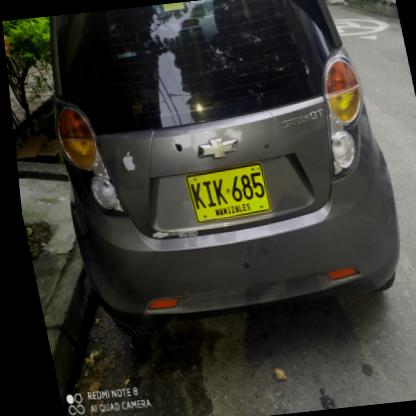placa: (174, 158, 275, 225)
